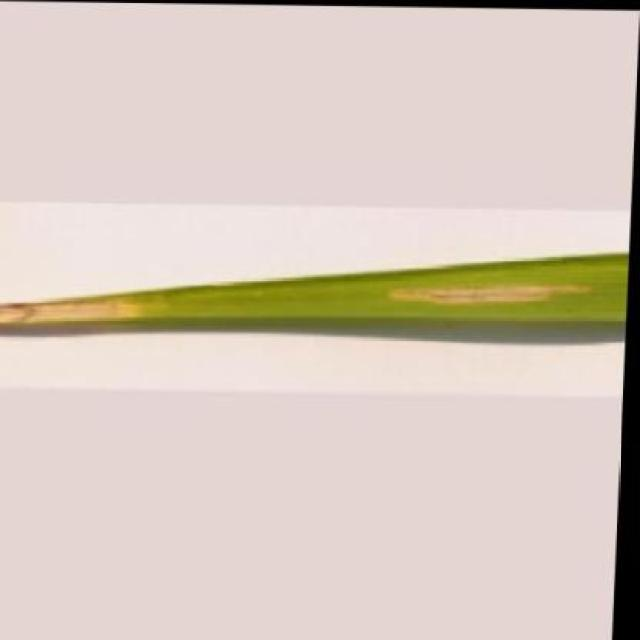Brown_Spot: (0, 244, 631, 341)
